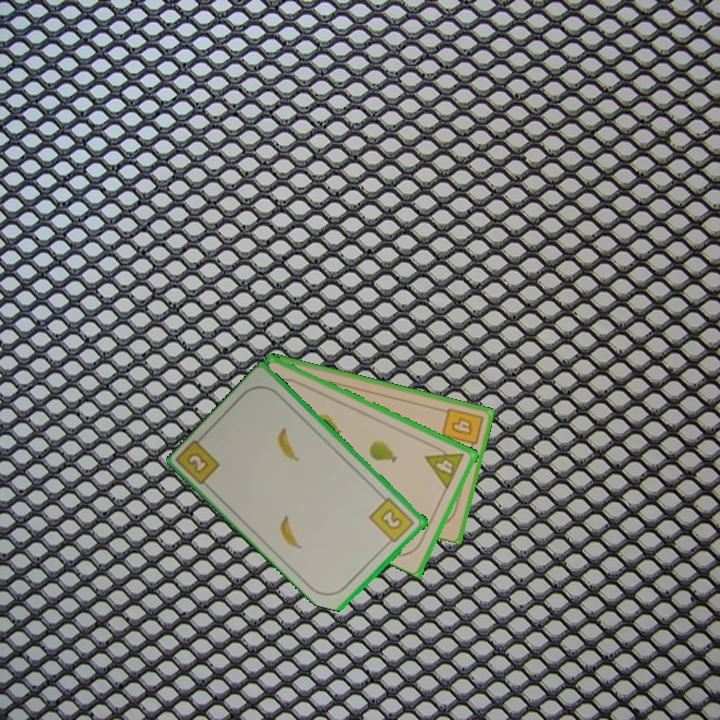2b: (366, 494, 417, 548), (183, 449, 212, 477)
4b: (438, 404, 486, 453)
4p: (422, 440, 467, 491)
